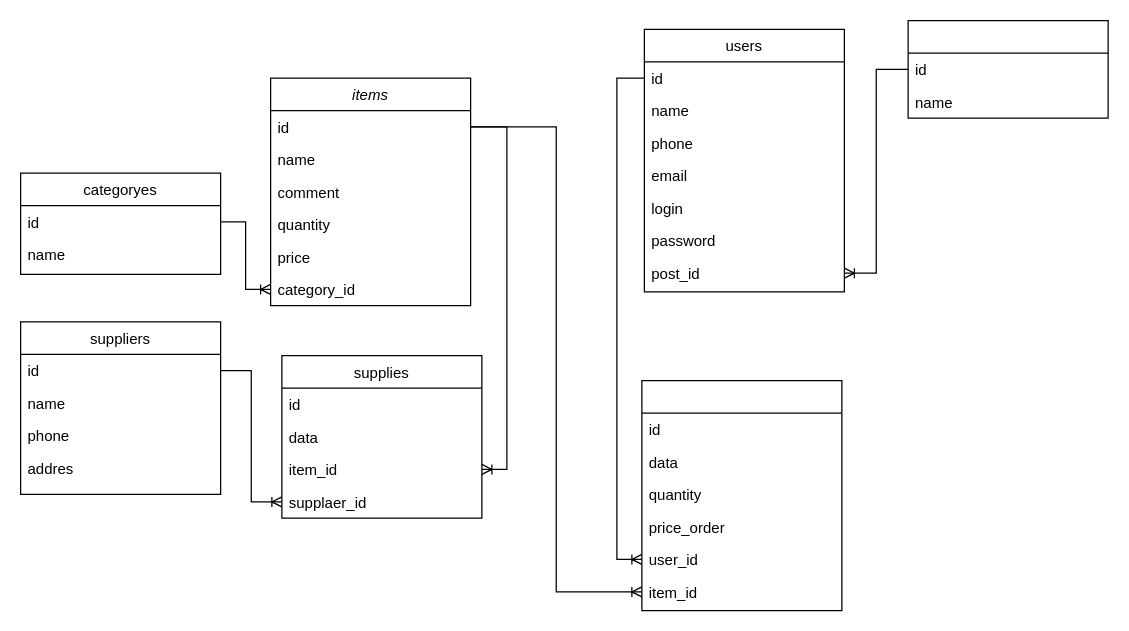
Some shapes in this 1129 by 631 pixel diagram are drawn without their labels. Here are the shapes that lost their labels. From the top down, the box of each, then its label:
(907, 19, 1108, 118): posts
(641, 379, 842, 611): orders
